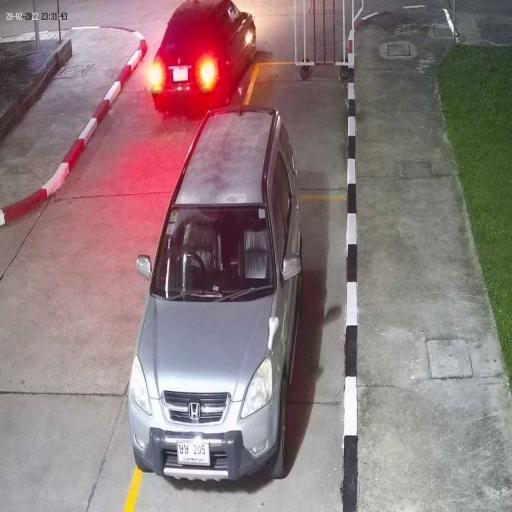car: (126, 106, 304, 481), (149, 0, 259, 112)
